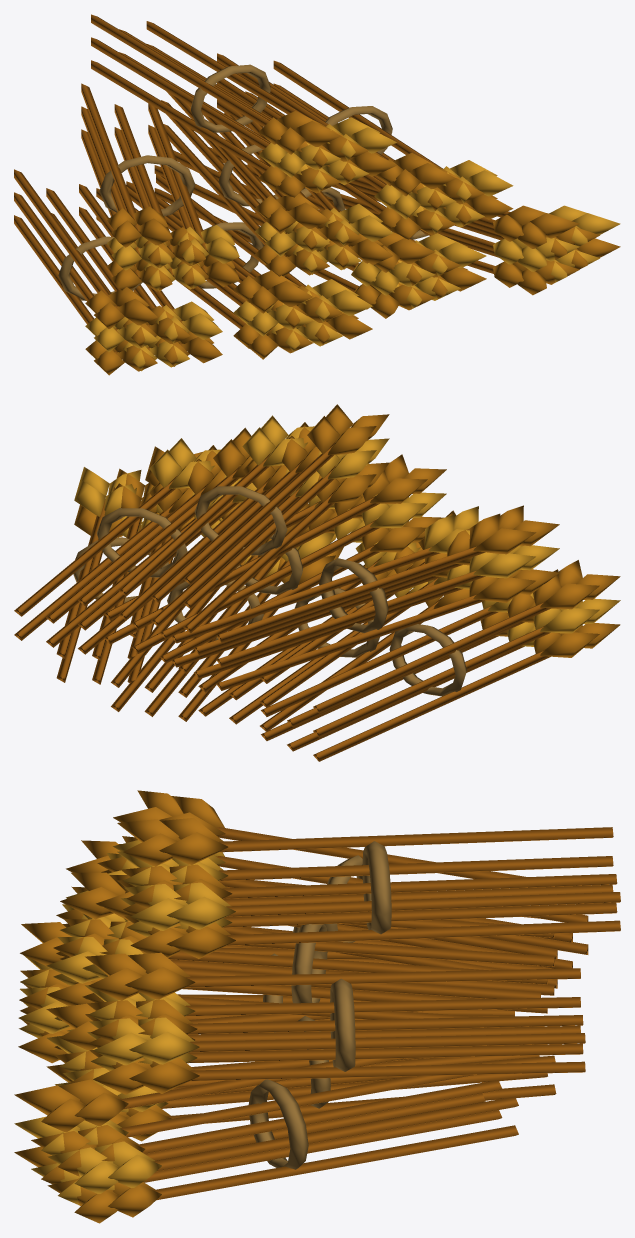
Rendered from pile-wheat-8.obj.
The picture shows the model from 3 angles, top to bottom: view 1: azimuth 30°, elevation 25°; view 2: azimuth 150°, elevation 25°; view 3: azimuth 270°, elevation 25°; orthographic projection. The views are drawn at different scales.
Parts seen in each view (by area): view 1: pile-wheat-8; view 2: pile-wheat-8; view 3: pile-wheat-8.
Part boxes in pixels (left/top/right/bottom): pile-wheat-8: left=14, top=14, right=620, bottom=375; pile-wheat-8: left=14, top=404, right=620, bottom=761; pile-wheat-8: left=14, top=790, right=620, bottom=1223.
Bounding box in the file's own units: 0.7706 × 0.2718 × 0.6287.
Materials: 1 (1 with a texture image).
